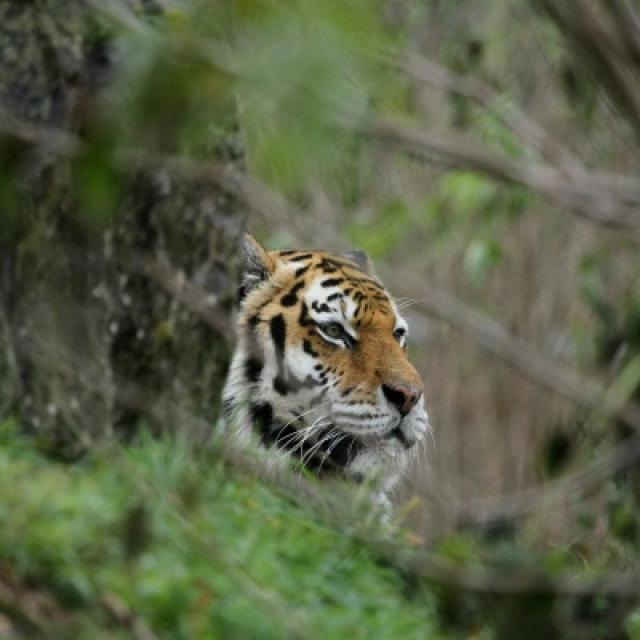Tiger: (219, 237, 441, 534)
